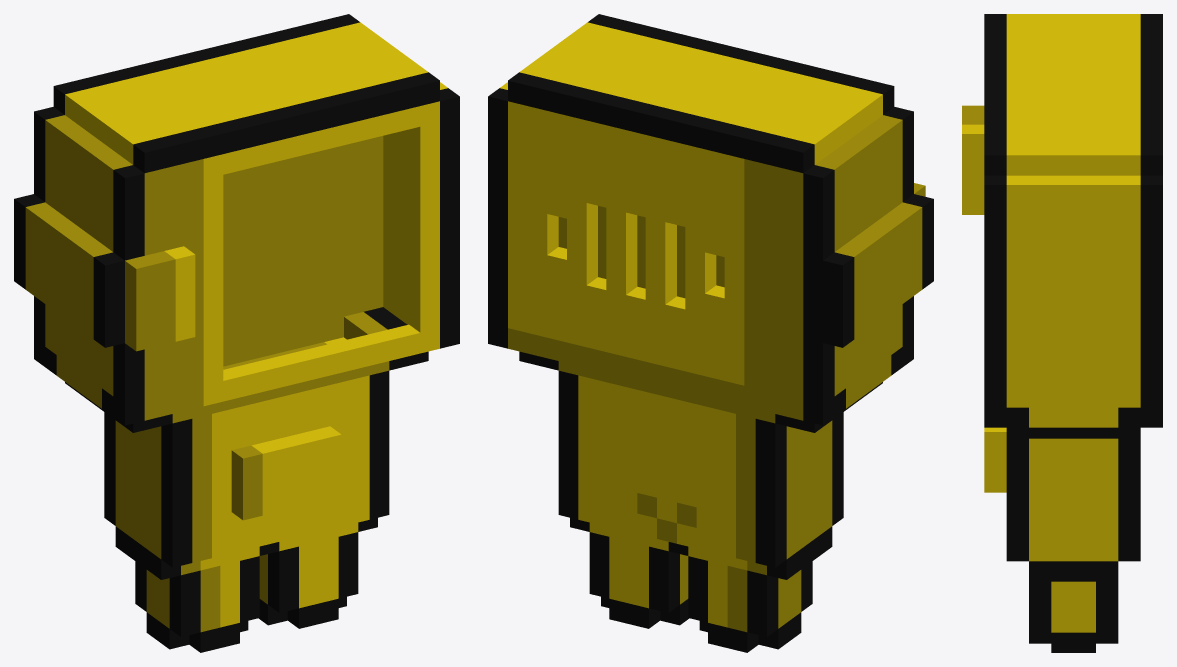
Rendered from body_gold.glb.
3 views of the same model, side by side, from view 1: azimuth 30°, elevation 25°; view 2: azimuth 150°, elevation 25°; view 3: azimuth 270°, elevation 25° (orthographic).
Parts seen in each view (by area): view 1: bb0 body; view 2: bb0 body; view 3: bb0 body.
Part boxes in pixels (bbox=[...]): bb0 body: bbox=[14, 14, 459, 652]; bb0 body: bbox=[488, 14, 933, 652]; bb0 body: bbox=[962, 14, 1162, 652].
Size of the model in its own units: 18 by 26 by 9.
